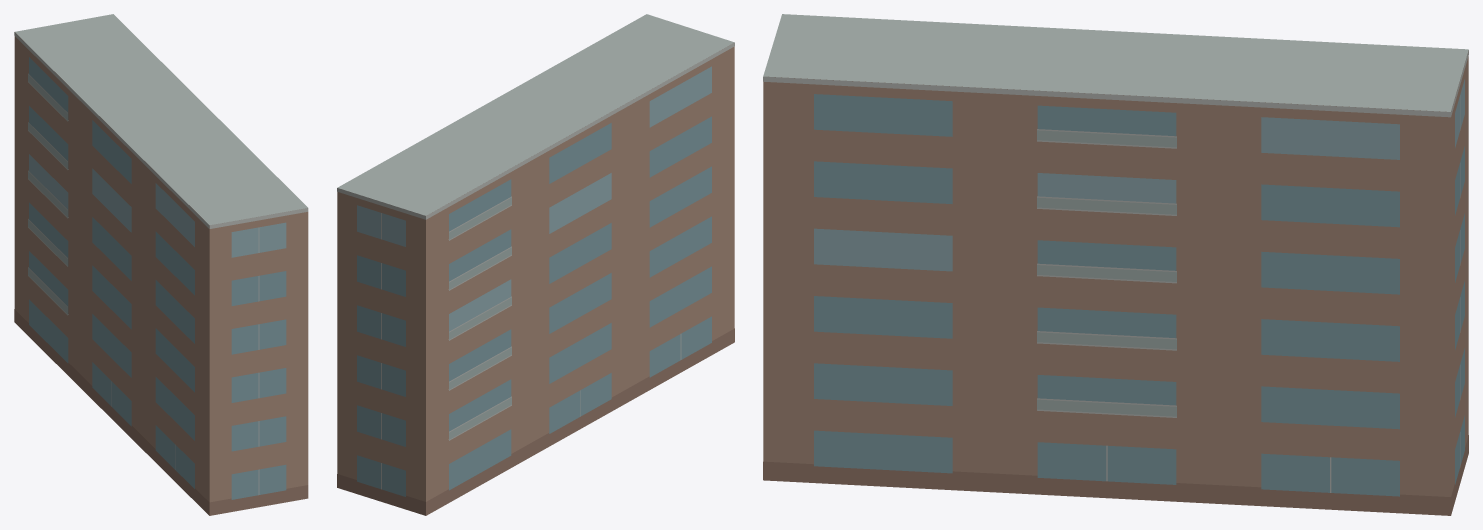
The model's file is survey-upis-32919894.glb.
3 views of the same model, side by side, from view 1: azimuth 30°, elevation 25°; view 2: azimuth 150°, elevation 25°; view 3: azimuth 270°, elevation 25° (orthographic). The views are drawn at different scales.
Parts seen in each view (by area): view 1: survey-upis-32919894.tmp; view 2: survey-upis-32919894.tmp; view 3: survey-upis-32919894.tmp.
Part boxes in pixels (x1,y1,x2,y2): survey-upis-32919894.tmp: (14, 14, 308, 515); survey-upis-32919894.tmp: (337, 14, 734, 515); survey-upis-32919894.tmp: (763, 14, 1468, 515).
Size of the model in its own units: 9.69 by 18.6 by 29.46.
